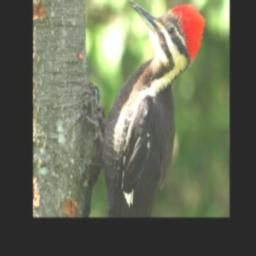Woodpecker: (83, 0, 204, 216)
